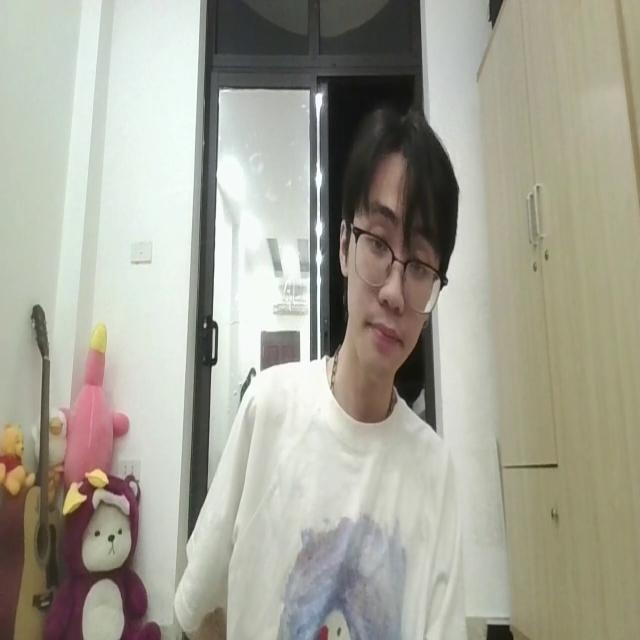student: (176, 112, 475, 640)
